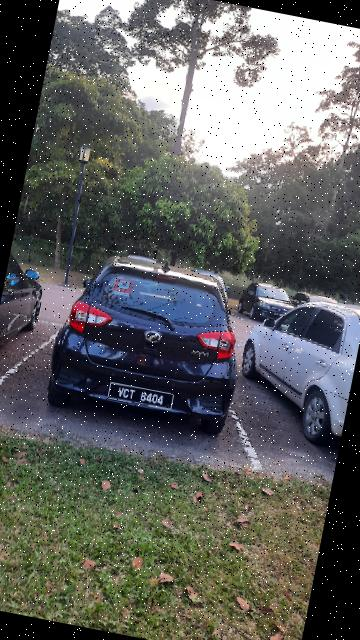License_Plate: (105, 378, 178, 415), (272, 313, 288, 320)
car: (41, 246, 258, 442), (227, 286, 360, 451), (1, 247, 54, 380), (237, 281, 304, 330)
